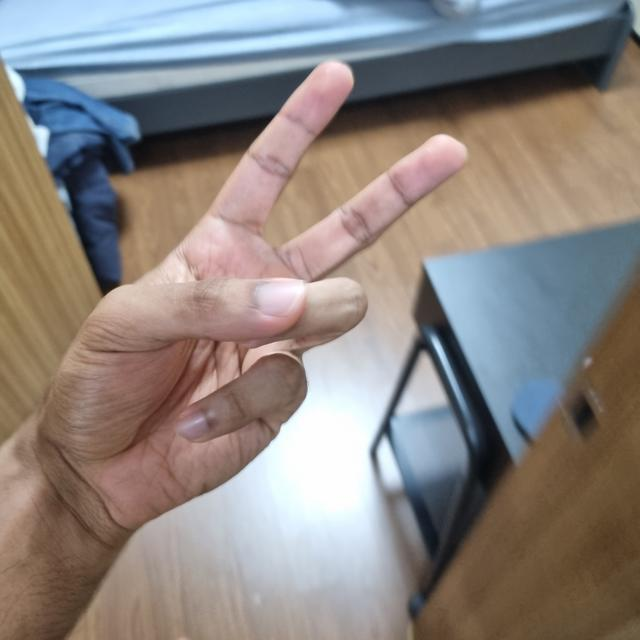Scissors: (23, 68, 460, 521)
